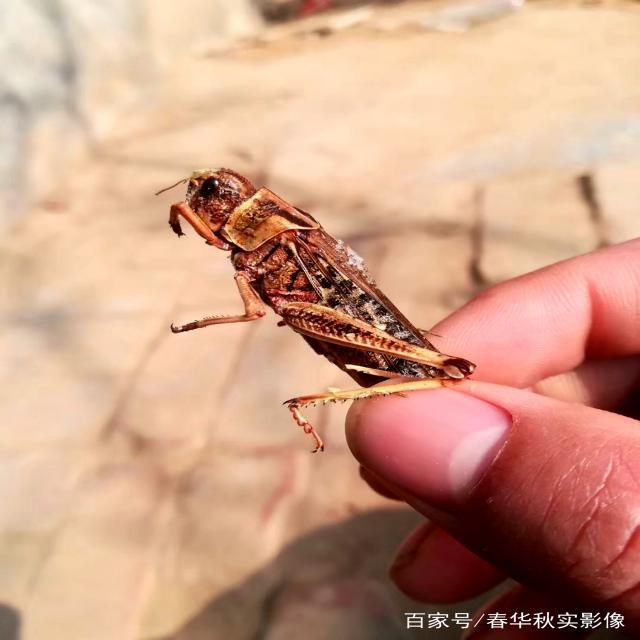ZhaMeng: (155, 155, 499, 433)
